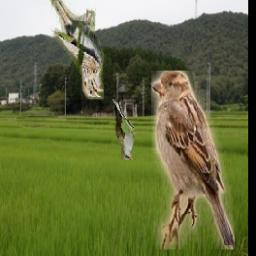Cuckoo: (112, 100, 137, 161)
Sparrow: (151, 71, 235, 249), (49, 0, 104, 100)
